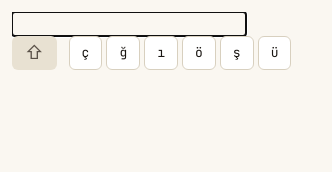
Test: AccentPicker › uppercase › maps Turkish dotless ı to capital I
Click the button named "uppercase" at (34, 53), box [12, 36, 57, 70]
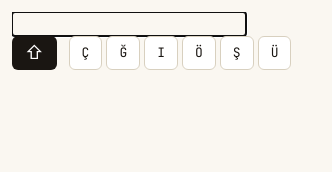
Click the button named "insert I" at (161, 53), box [144, 36, 178, 70]
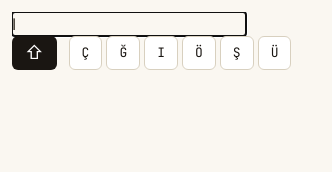
Result: the field with test id "target" holds "I" at [12, 12, 246, 36]
